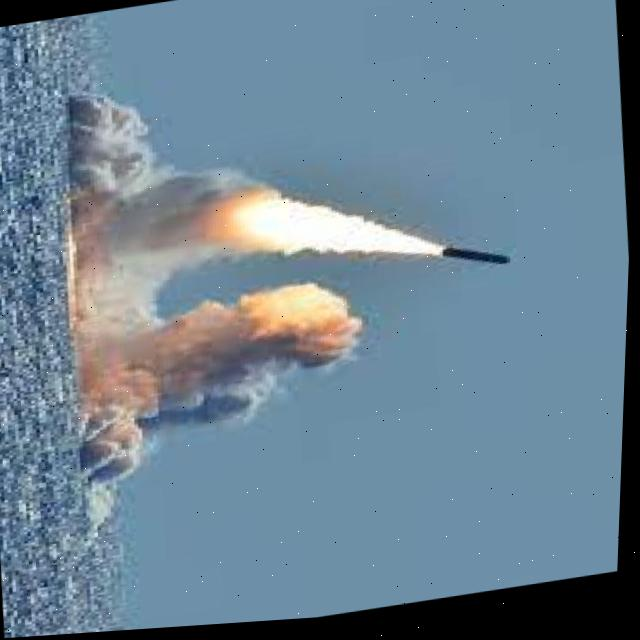missile: (438, 237, 512, 295)
